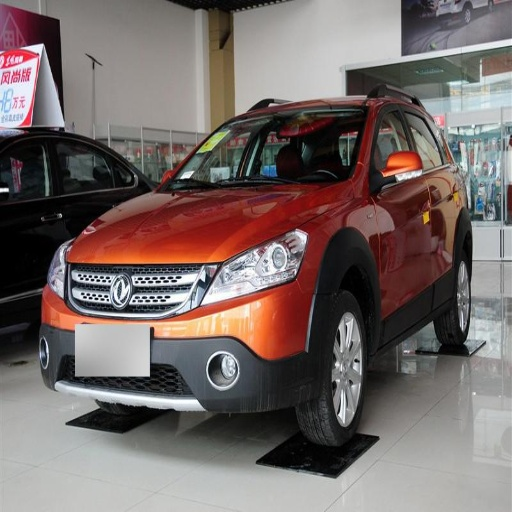front_bumper: (37, 262, 316, 406)
front_glass: (157, 108, 366, 190)
front_left_door: (369, 102, 433, 318)
